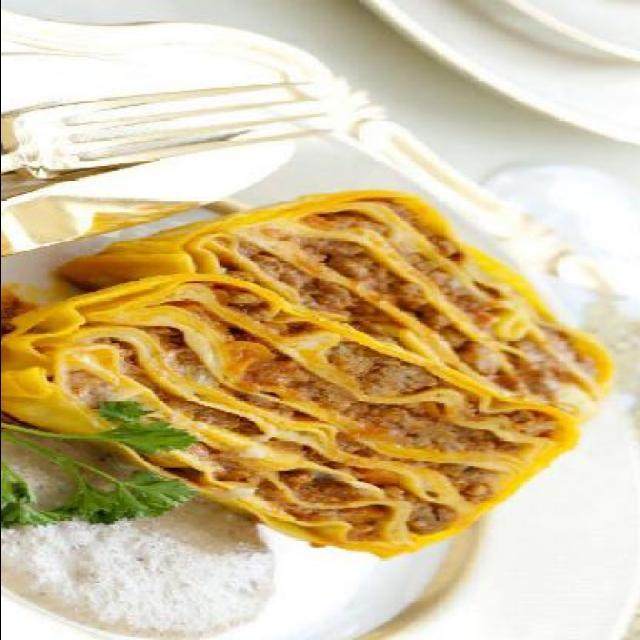Pasta al ragu: (20, 189, 632, 583)
